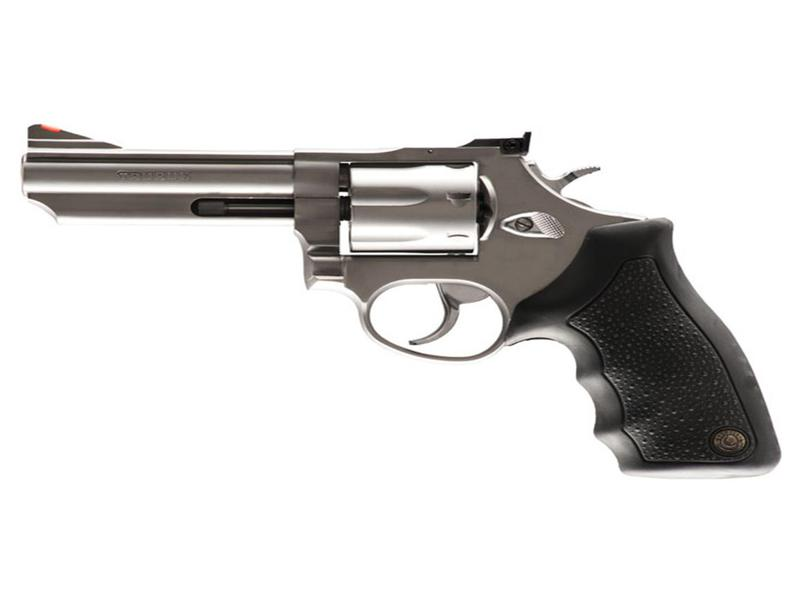Revolver: (22, 87, 728, 401)
